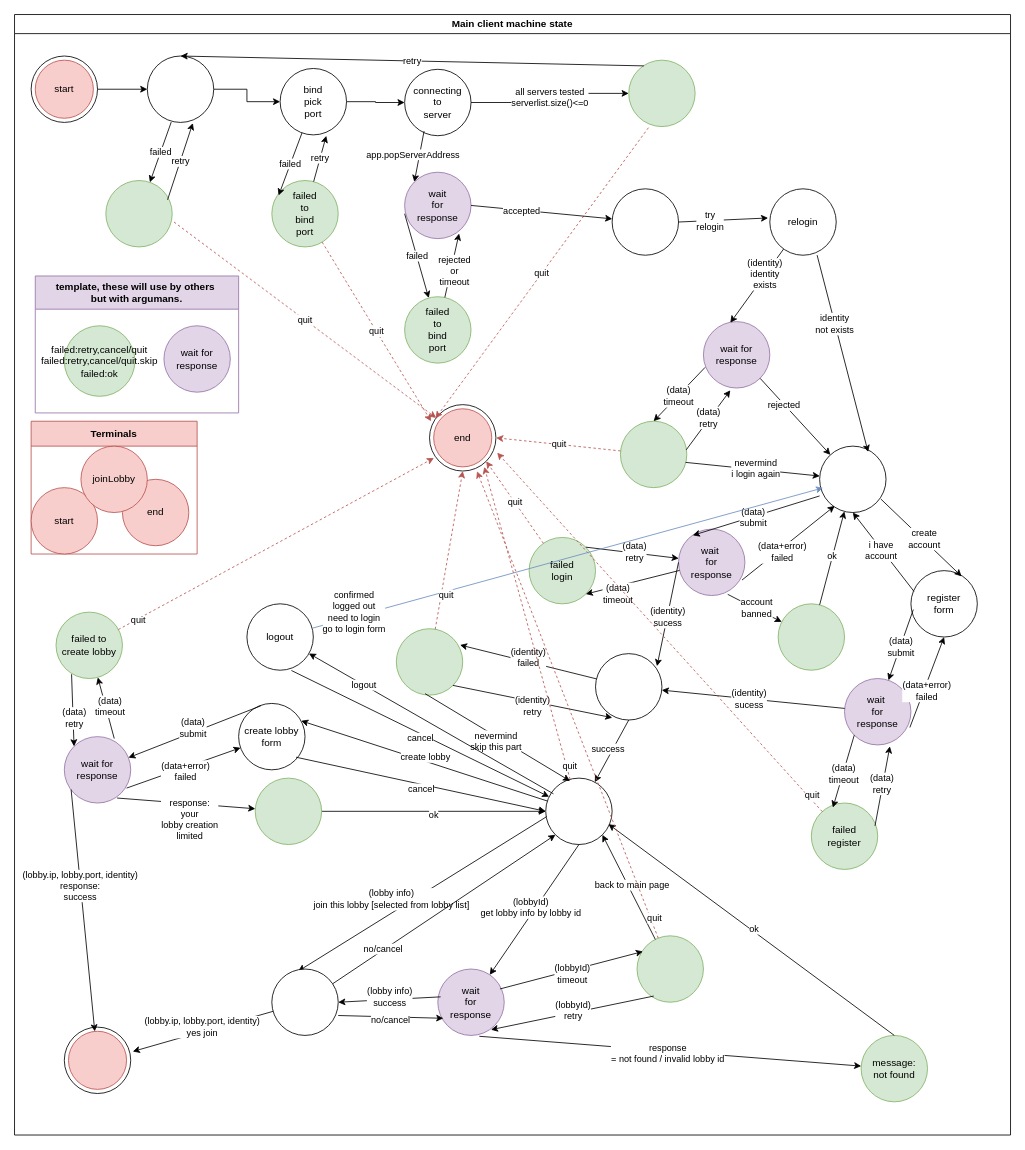
Image size: 1025x1150. Some labels were removed from this diagram. The shapes that lost their labels are listed below. From the top down, each one's box as (x1, y1, x2, y2) in pixels, then its label:
(146, 55, 214, 122): read server list
(628, 59, 695, 127): Failed connect to all servers
(105, 180, 172, 247): unable to open serverlist
(611, 188, 679, 255): connected to the server
(620, 420, 687, 488): failed relogin
(819, 445, 886, 513): login form
(777, 603, 845, 670): message: account is banned
(395, 628, 463, 695): failed write identity to localfiles
(595, 653, 662, 720): write identity to local
(254, 777, 322, 845): message: account limited
(545, 777, 612, 845): main page
(636, 935, 703, 1002): failed to get lobby info by id
(271, 968, 338, 1035): show lobby details
(68, 1030, 127, 1089): join lobby
